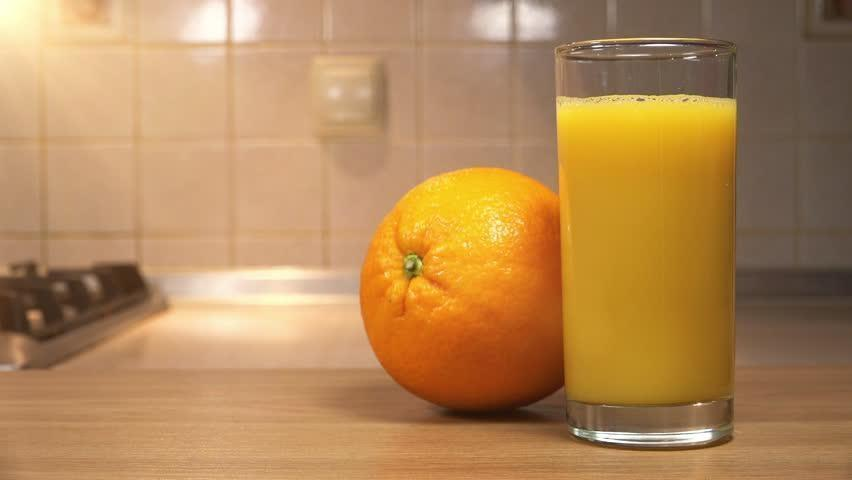glass-normal: (552, 33, 743, 450)
